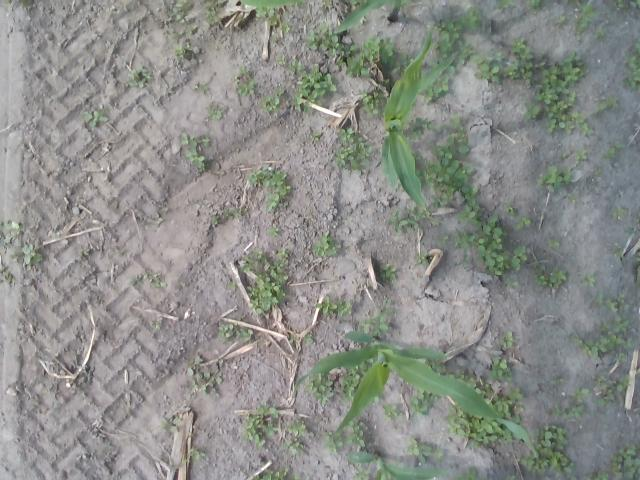Maize: (292, 330, 540, 458), (381, 26, 458, 222), (240, 0, 407, 33), (346, 451, 443, 480)
Weeds: (455, 214, 529, 277), (535, 51, 586, 134), (422, 158, 484, 226), (446, 398, 524, 446), (247, 257, 290, 316), (572, 321, 635, 357), (288, 66, 336, 112), (248, 165, 290, 212), (243, 402, 280, 450), (188, 355, 222, 397), (333, 138, 372, 168), (612, 443, 640, 480), (304, 373, 334, 407), (533, 424, 569, 451), (536, 166, 572, 192), (573, 0, 595, 41), (624, 38, 640, 90), (534, 264, 567, 286), (546, 449, 574, 474), (406, 436, 431, 462), (346, 419, 368, 448), (358, 89, 380, 117), (445, 128, 470, 152), (432, 29, 453, 57), (474, 61, 502, 82), (492, 356, 514, 382), (310, 236, 340, 255), (386, 210, 408, 234), (82, 108, 110, 126), (519, 57, 535, 88), (361, 34, 380, 60), (128, 68, 152, 88), (462, 6, 482, 30), (521, 456, 550, 472), (596, 384, 614, 408), (364, 316, 388, 334), (320, 34, 340, 55), (22, 244, 44, 263), (346, 57, 369, 75), (255, 468, 288, 480), (430, 144, 450, 163), (158, 416, 182, 431), (326, 432, 342, 454), (286, 420, 308, 436), (603, 140, 622, 158), (186, 151, 206, 168), (451, 372, 477, 385), (450, 467, 476, 480), (379, 262, 396, 281), (316, 296, 336, 312), (381, 37, 393, 63), (410, 397, 427, 415), (260, 95, 279, 111), (382, 405, 400, 421), (236, 328, 254, 344), (434, 74, 449, 93), (337, 127, 357, 141), (235, 81, 255, 95), (512, 218, 532, 232), (499, 330, 516, 346), (614, 315, 630, 332), (392, 59, 410, 74), (406, 124, 424, 139), (617, 374, 630, 394), (408, 204, 424, 220), (219, 323, 235, 339), (240, 256, 256, 272), (524, 103, 540, 119), (503, 66, 521, 80), (336, 300, 351, 316), (352, 466, 369, 480), (510, 36, 524, 53), (283, 440, 302, 452), (416, 249, 430, 265), (152, 274, 168, 288), (206, 104, 222, 118), (448, 22, 462, 38), (580, 272, 596, 286), (415, 117, 434, 128), (587, 471, 609, 480), (574, 388, 588, 402), (459, 42, 475, 54), (502, 204, 518, 216), (190, 136, 208, 146), (224, 206, 240, 217), (204, 0, 226, 8), (421, 88, 432, 104), (570, 405, 584, 417), (129, 274, 142, 286), (206, 10, 219, 22), (304, 38, 317, 50), (451, 114, 462, 128), (3, 220, 20, 229), (268, 224, 280, 236), (344, 44, 356, 56), (582, 123, 594, 135), (574, 148, 586, 160), (310, 130, 324, 140), (470, 54, 484, 64), (488, 50, 502, 60), (556, 14, 566, 28), (176, 0, 191, 9), (510, 388, 522, 399), (150, 318, 162, 329), (172, 44, 183, 56), (432, 22, 444, 33), (594, 26, 605, 38), (416, 389, 429, 399), (438, 234, 451, 244), (163, 26, 176, 36), (613, 208, 626, 218), (496, 0, 512, 8), (5, 233, 16, 244), (504, 278, 516, 288), (550, 405, 562, 415), (192, 448, 204, 458), (318, 0, 328, 12), (2, 270, 12, 282), (605, 300, 615, 312), (552, 377, 566, 385), (593, 374, 604, 384), (174, 9, 184, 20), (607, 96, 618, 106), (614, 353, 626, 362), (306, 332, 315, 344), (289, 330, 297, 343), (226, 281, 236, 291), (210, 214, 220, 224), (318, 23, 328, 33), (522, 48, 532, 58), (594, 104, 604, 114), (613, 0, 623, 10), (414, 166, 424, 176), (180, 133, 189, 144), (276, 248, 290, 255), (460, 52, 468, 64), (526, 0, 542, 6), (238, 65, 248, 74), (267, 17, 277, 26), (255, 10, 266, 18), (475, 389, 487, 396), (534, 61, 546, 68), (80, 248, 90, 256), (278, 55, 286, 65), (281, 22, 289, 32), (310, 30, 318, 40), (630, 0, 640, 8), (548, 238, 558, 246), (636, 266, 640, 286), (412, 154, 422, 162), (434, 449, 442, 458), (189, 25, 197, 34), (266, 7, 274, 16), (594, 167, 602, 176), (616, 294, 624, 303), (268, 34, 278, 41), (596, 293, 602, 304), (252, 250, 262, 256), (338, 52, 343, 64), (635, 214, 640, 226), (203, 86, 210, 94), (277, 87, 284, 95), (448, 66, 455, 74), (442, 125, 451, 131), (231, 76, 239, 82), (626, 228, 634, 234), (636, 252, 640, 263), (296, 61, 302, 68), (194, 83, 200, 90), (560, 152, 566, 159), (569, 194, 576, 200), (617, 250, 622, 258), (290, 55, 296, 61), (210, 44, 217, 48), (508, 476, 514, 480), (290, 64, 294, 70), (186, 44, 190, 50)
